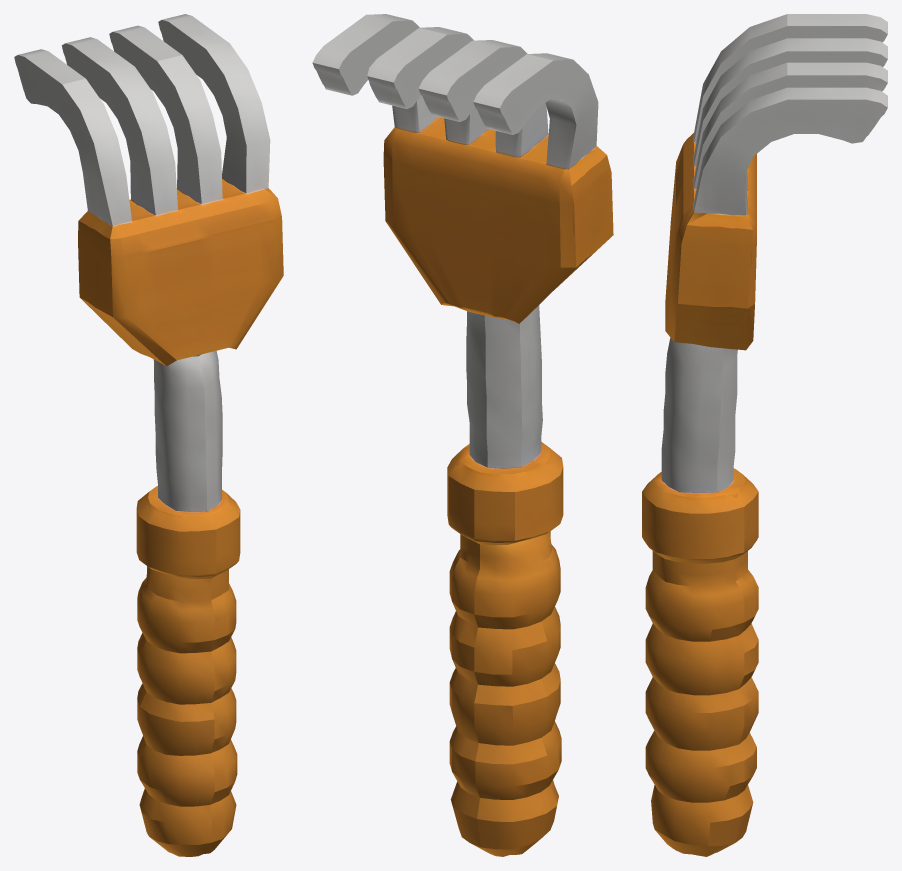
The model's file is base_basic_pbr.fbx.
3 renders of one model, left to right at view 1: azimuth 30°, elevation 25°; view 2: azimuth 150°, elevation 25°; view 3: azimuth 270°, elevation 25°, orthographic. The views are drawn at different scales.
Parts seen in each view (by area): view 1: model; view 2: model; view 3: model.
Part boxes in pixels (x1=…): model: x1=14, y1=14, x2=283, y2=856; model: x1=312, y1=14, x2=613, y2=856; model: x1=642, y1=14, x2=887, y2=856.
Size of the model in its own units: 44.85 by 190 by 53.43.
Materials: 1 (1 with a texture image).
